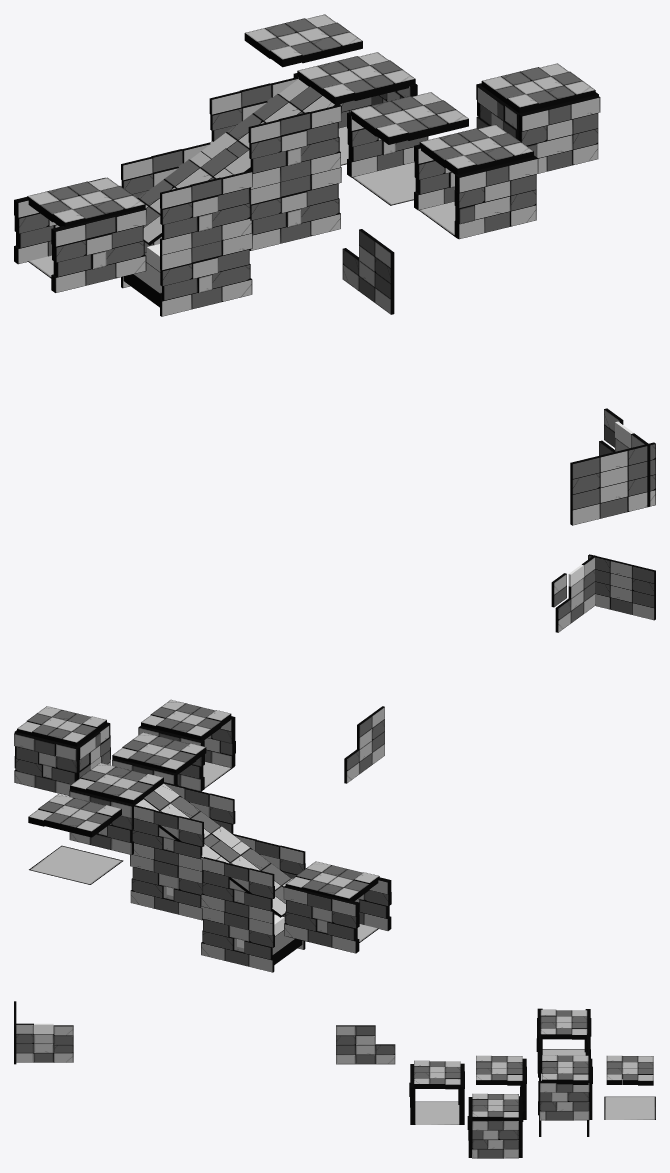
The model's file is new fixed tiles.FBX.
3 renders of one model, top to bottom at view 1: azimuth 30°, elevation 25°; view 2: azimuth 150°, elevation 25°; view 3: azimuth 270°, elevation 25°, orthographic. The views are drawn at different scales.
Parts seen in each view (by area): view 1: Base 014, Base 011, Plane005, 646, Base 003, Plane003, Base 015, Box 9; view 2: Base 014, Base 011, 646, Plane005, Base 015, Plane003, Base 003; view 3: 646, Plane003, Plane005, Base 015, Base 011, Base 003, Base 014.
Boxes of the visible parts, left/top/right/bottom form: Base 014: left=121, top=77, right=341, bottom=316; Base 011: left=14, top=177, right=146, bottom=292; Plane005: left=414, top=124, right=538, bottom=239; 646: left=476, top=63, right=600, bottom=173; Base 003: left=347, top=92, right=468, bottom=177; Plane003: left=293, top=52, right=417, bottom=165; Base 015: left=244, top=14, right=362, bottom=67; Box 9: left=352, top=162, right=415, bottom=205; Base 014: left=130, top=782, right=305, bottom=972; Base 011: left=283, top=861, right=391, bottom=953; 646: left=14, top=706, right=110, bottom=795; Plane005: left=138, top=699, right=235, bottom=791; Base 015: left=28, top=794, right=123, bottom=884; Plane003: left=69, top=763, right=163, bottom=854; Base 003: left=112, top=732, right=206, bottom=785; 646: left=467, top=1093, right=523, bottom=1158; Plane003: left=539, top=1055, right=592, bottom=1120; Plane005: left=409, top=1060, right=464, bottom=1124; Base 015: left=604, top=1055, right=655, bottom=1119; Base 011: left=536, top=1008, right=591, bottom=1073; Base 003: left=476, top=1055, right=526, bottom=1119; Base 014: left=538, top=1033, right=589, bottom=1136.
Bounding box in the file's own units: 361 × 123 × 665.
Materials: 6 (5 with a texture image).
